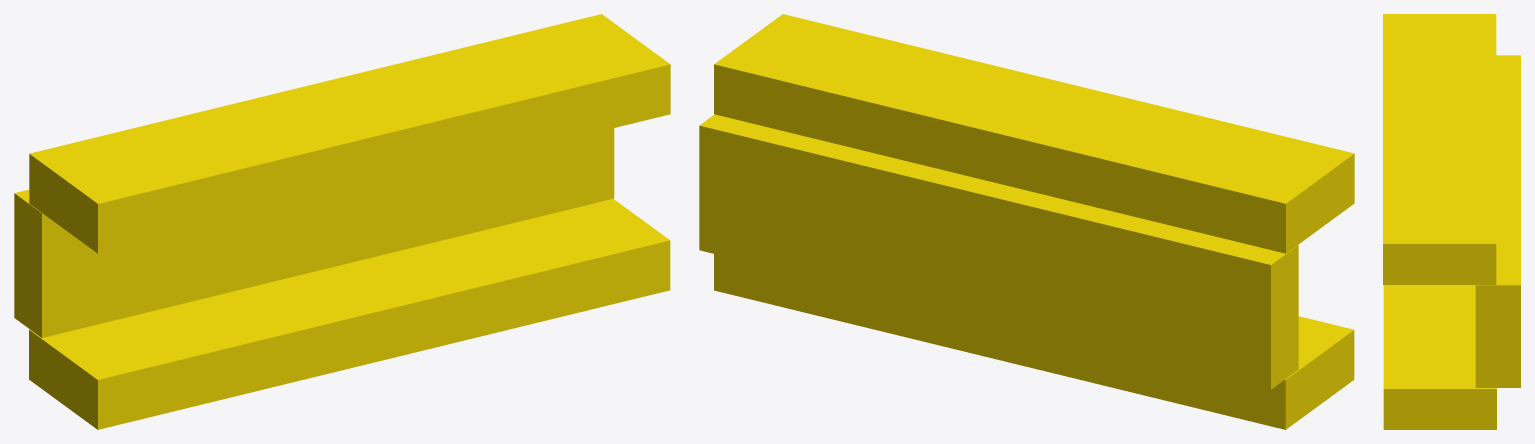
File: bread1.obj
The picture shows the model from 3 angles, left to right: view 1: azimuth 30°, elevation 25°; view 2: azimuth 150°, elevation 25°; view 3: azimuth 270°, elevation 25°; orthographic projection. The views are drawn at different scales.
Parts seen in each view (by area): view 1: bread1_left, bread1_right, bread1_bottom; view 2: bread1_bottom, bread1_left, bread1_right; view 3: bread1_left, bread1_right, bread1_bottom.
Part boxes in pixels (x1,y1,x2,y2): bread1_left: (29,14,670,253); bread1_right: (29,199,670,429); bread1_bottom: (14,128,614,337); bread1_bottom: (699,114,1298,389); bread1_left: (714,14,1354,253); bread1_right: (714,254,1354,429); bread1_left: (1383,14,1496,284); bread1_right: (1383,285,1496,429); bread1_bottom: (1475,55,1520,387).
Bounding box in the file's own units: 0.12 × 0.0453 × 0.0304.
